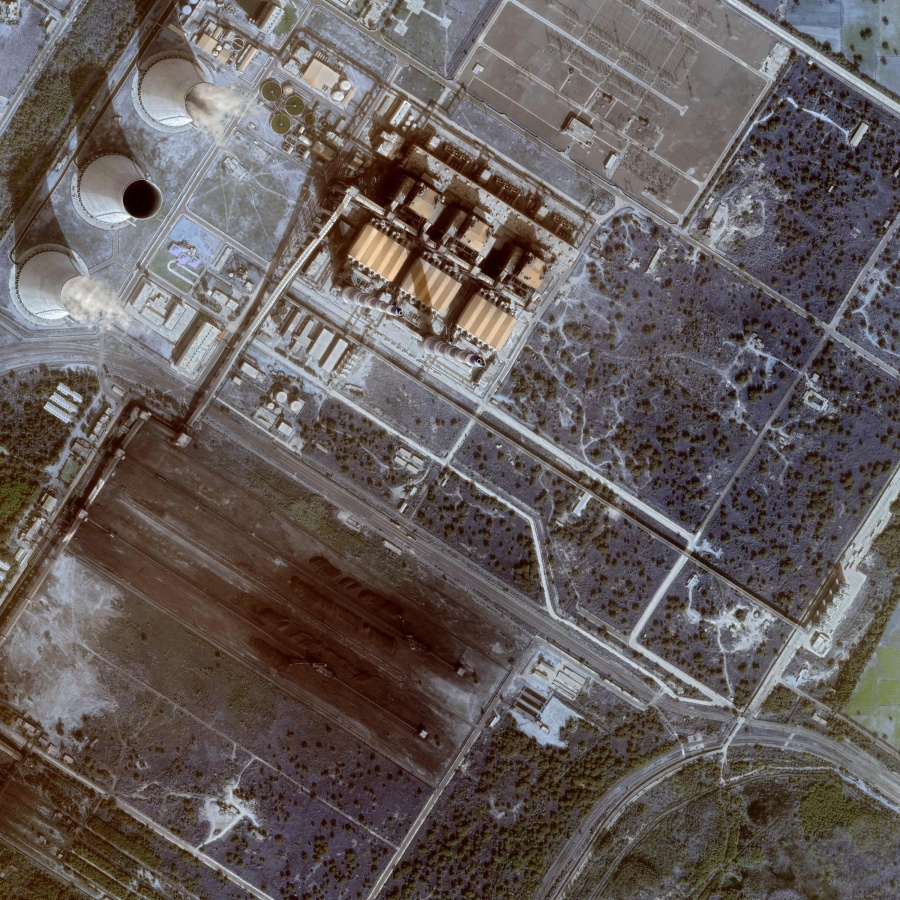PowerPlant: (50, 403, 524, 781)
